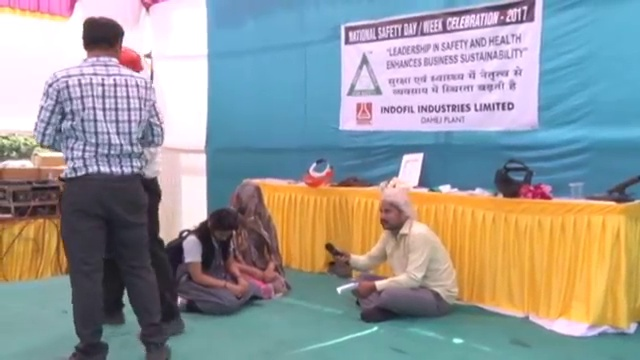helmet_off: (71, 18, 131, 66), (371, 187, 416, 238), (231, 187, 271, 233), (205, 206, 239, 249)
person: (35, 9, 172, 360), (327, 185, 460, 323), (162, 207, 260, 319), (222, 183, 286, 298)
